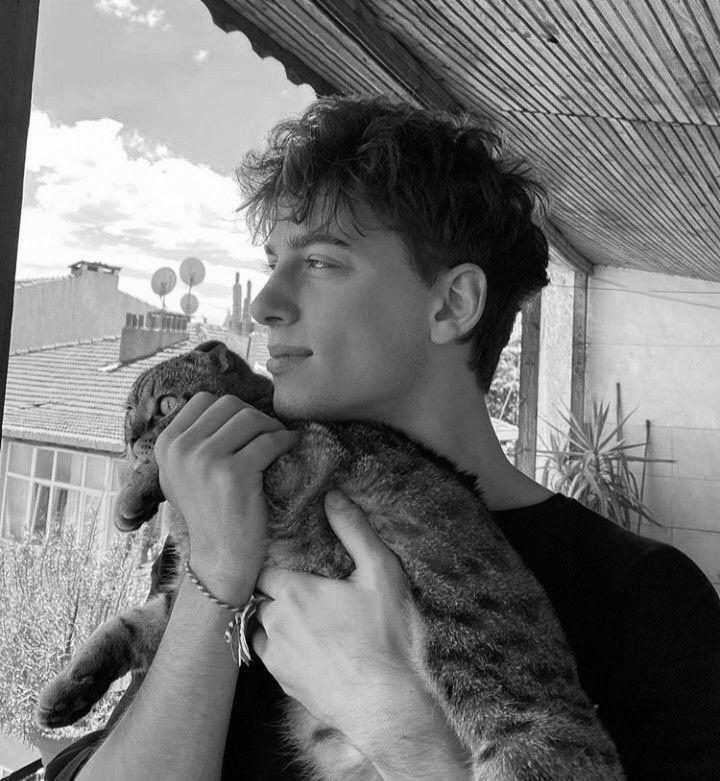kedo: (119, 339, 273, 533)
